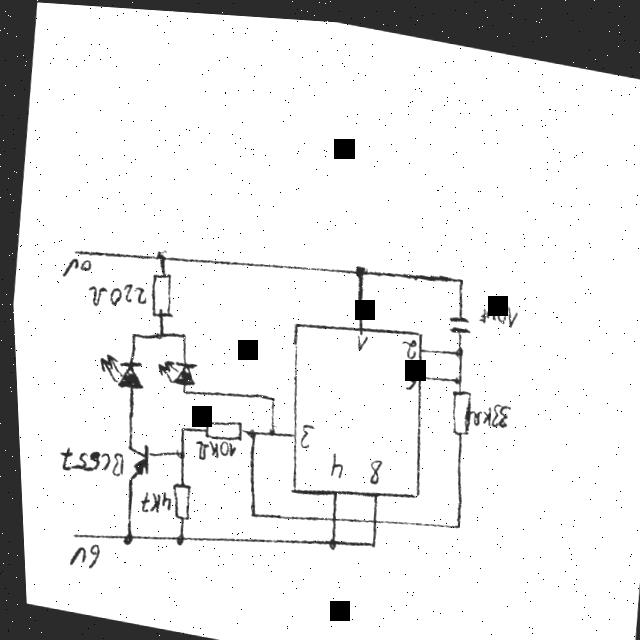capacitor: (444, 306, 469, 331)
crossover: (322, 508, 334, 521), (363, 510, 374, 523)
diode: (93, 350, 142, 390), (152, 353, 194, 386)
junction: (115, 527, 129, 547), (168, 528, 181, 546), (149, 325, 163, 340), (241, 422, 254, 437), (170, 443, 182, 459), (322, 532, 334, 547), (449, 339, 461, 353), (351, 259, 362, 274), (154, 250, 166, 263), (447, 512, 458, 526), (263, 422, 273, 436), (450, 368, 461, 380), (362, 533, 372, 545), (453, 268, 462, 281), (243, 507, 253, 518), (264, 389, 273, 400), (174, 422, 183, 433), (176, 329, 185, 339), (177, 384, 185, 395), (126, 330, 135, 339)
resistor: (443, 379, 470, 433), (145, 267, 173, 319), (199, 412, 239, 439), (164, 478, 188, 521)
terminal: (67, 244, 83, 256), (65, 529, 75, 540)
text: (54, 442, 120, 480), (85, 275, 145, 314), (467, 391, 508, 426), (476, 290, 516, 323), (189, 436, 233, 463), (63, 539, 96, 570), (134, 485, 167, 515), (60, 254, 89, 280), (323, 447, 340, 476), (396, 330, 414, 356), (294, 417, 310, 446), (363, 452, 378, 481), (400, 362, 414, 386), (351, 327, 365, 349)
transistor: (120, 438, 146, 481)
